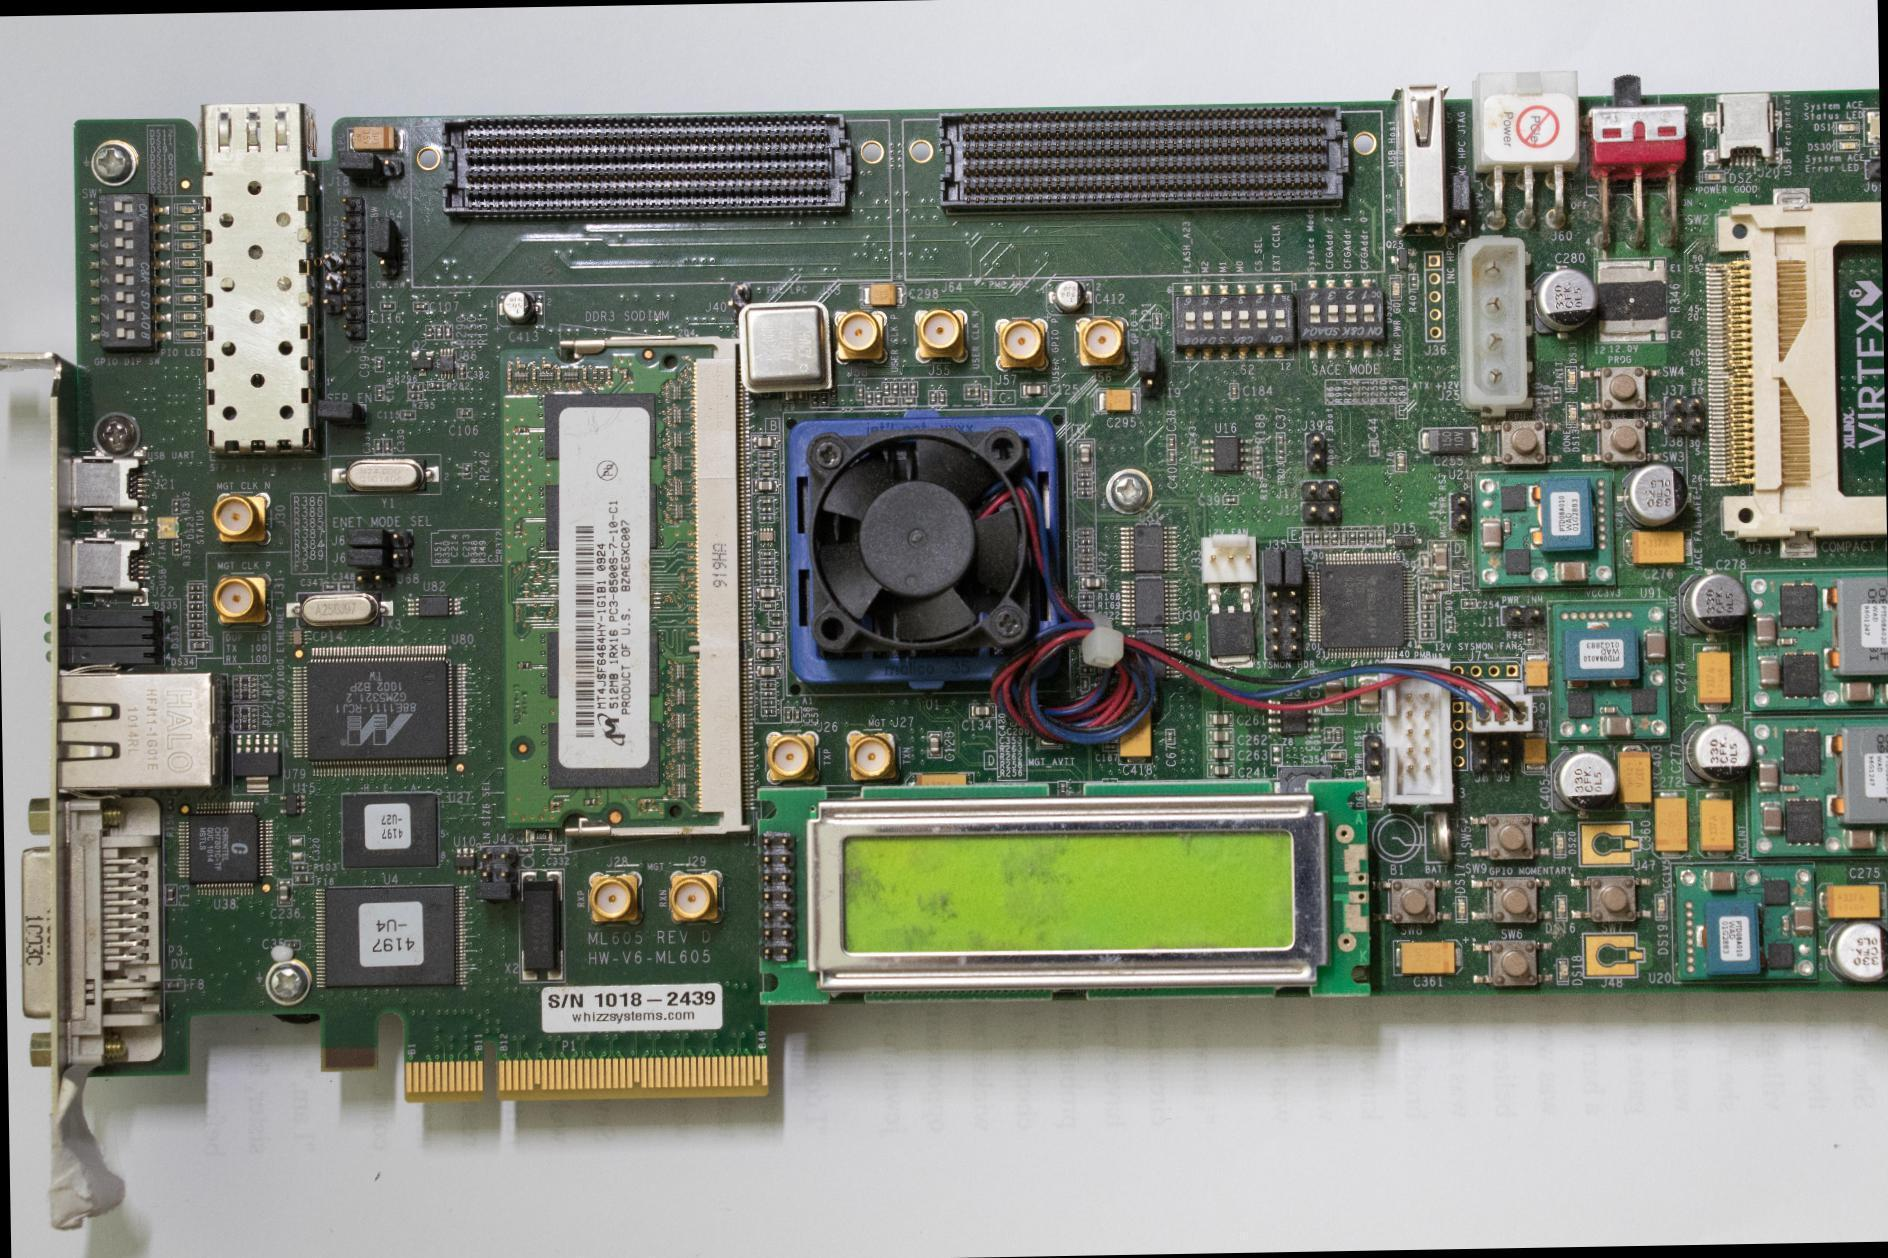Button: (1468, 815, 1550, 860), (1568, 876, 1650, 922), (1480, 421, 1560, 466), (1472, 940, 1552, 986), (1580, 367, 1659, 410), (1470, 878, 1550, 920), (1581, 418, 1658, 462), (1379, 878, 1450, 923)
Capacitor: (1352, 669, 1381, 713), (1318, 671, 1346, 713), (1790, 900, 1813, 936), (1599, 715, 1634, 738), (1758, 760, 1782, 794), (1759, 801, 1783, 837), (1753, 614, 1776, 648), (1842, 827, 1877, 850), (1553, 561, 1589, 582), (1839, 681, 1876, 702), (1642, 630, 1665, 664), (1757, 655, 1780, 689), (1479, 518, 1500, 552), (1703, 869, 1736, 890), (1067, 393, 1083, 421), (753, 663, 781, 680), (752, 645, 779, 661), (750, 435, 777, 450), (751, 478, 779, 493), (753, 585, 781, 601), (752, 629, 780, 645), (1020, 382, 1047, 397), (1206, 711, 1232, 726), (276, 879, 291, 907), (967, 705, 994, 719), (1206, 728, 1232, 743), (926, 728, 940, 755), (1206, 746, 1232, 760), (1078, 576, 1104, 590), (1207, 762, 1233, 776), (1393, 449, 1406, 471), (1324, 749, 1345, 761), (288, 630, 304, 646), (372, 355, 384, 373), (783, 391, 806, 400), (378, 301, 396, 311), (410, 301, 427, 311), (455, 407, 472, 418), (1100, 741, 1117, 752), (1777, 637, 1795, 647), (1780, 916, 1789, 936), (374, 386, 384, 401), (1879, 681, 1887, 705), (383, 437, 393, 454), (1369, 440, 1378, 457), (1458, 599, 1475, 609), (1613, 699, 1632, 708), (1780, 783, 1800, 792), (549, 845, 565, 855), (283, 940, 300, 950), (1879, 828, 1887, 851), (1229, 382, 1238, 400), (1275, 431, 1285, 447), (1167, 435, 1176, 450), (1383, 529, 1392, 545), (1444, 617, 1454, 632), (783, 706, 793, 722), (1339, 531, 1347, 547), (1167, 450, 1176, 465), (339, 583, 354, 593), (1323, 728, 1332, 743), (1151, 313, 1160, 329), (456, 363, 465, 379), (399, 410, 414, 419), (373, 438, 382, 454), (1193, 444, 1202, 459), (322, 582, 337, 591), (793, 706, 801, 722), (1165, 729, 1174, 744), (1333, 728, 1342, 743), (519, 846, 532, 854)
Connector: (1707, 186, 1886, 561), (406, 107, 889, 225), (902, 101, 1379, 217), (3, 791, 181, 1076), (198, 102, 320, 458), (48, 670, 228, 791), (938, 537, 1052, 700), (1459, 234, 1534, 418), (1379, 665, 1450, 811), (1395, 82, 1447, 238), (70, 528, 149, 607), (70, 446, 147, 526), (1701, 92, 1780, 164), (757, 831, 794, 964), (339, 195, 369, 341), (1201, 534, 1255, 605), (1466, 680, 1532, 732), (210, 492, 271, 547), (212, 572, 272, 627), (833, 310, 888, 366), (912, 308, 968, 364), (1073, 315, 1128, 371), (993, 316, 1048, 371), (764, 730, 818, 786), (587, 870, 641, 927), (668, 869, 722, 927), (846, 729, 899, 783), (1263, 589, 1300, 659), (1423, 250, 1445, 341), (1298, 480, 1341, 521), (1468, 732, 1512, 771), (1662, 395, 1703, 433), (479, 846, 518, 880), (1449, 695, 1465, 771), (1450, 664, 1521, 680), (389, 530, 413, 570), (1450, 498, 1475, 537), (1501, 605, 1543, 627), (1360, 735, 1381, 777), (350, 571, 393, 591), (1303, 432, 1325, 471), (729, 283, 750, 319), (320, 291, 342, 315), (319, 249, 343, 270), (321, 270, 343, 292), (379, 156, 401, 177), (1139, 376, 1158, 397), (377, 257, 399, 276), (1864, 158, 1879, 180)
Diode: (1386, 535, 1422, 548)
Electrolytic Capacitor: (1683, 713, 1752, 788), (1530, 265, 1599, 339), (1679, 570, 1748, 636), (1622, 465, 1691, 529), (1818, 919, 1887, 983), (1551, 749, 1616, 814), (1691, 642, 1732, 712), (1651, 791, 1688, 859), (1817, 882, 1885, 920), (1696, 790, 1734, 857), (1393, 940, 1462, 976), (1623, 529, 1691, 565), (1615, 742, 1651, 810), (1115, 699, 1151, 764), (1048, 276, 1106, 315), (496, 291, 543, 326), (1425, 426, 1483, 452), (347, 125, 403, 152), (1094, 388, 1139, 414), (1522, 650, 1548, 694), (407, 314, 454, 339), (1521, 730, 1546, 775)
IC: (784, 419, 1070, 706), (293, 646, 468, 776), (312, 887, 469, 989), (1306, 552, 1414, 657), (340, 791, 439, 869), (1822, 574, 1887, 678), (1829, 723, 1887, 828), (1699, 742, 1761, 821), (230, 731, 282, 794), (1119, 524, 1177, 573), (1120, 576, 1177, 625), (1124, 633, 1180, 681), (1783, 798, 1823, 845), (1266, 699, 1319, 734), (1778, 583, 1817, 632), (1201, 436, 1252, 472), (1780, 728, 1818, 773), (1782, 654, 1818, 700), (406, 595, 464, 618), (1761, 878, 1788, 906), (1566, 692, 1594, 718), (1767, 942, 1793, 970), (1501, 479, 1526, 506), (1504, 548, 1529, 574), (1630, 689, 1656, 715), (278, 794, 306, 816), (454, 848, 475, 875), (439, 348, 454, 379)
Led: (40, 606, 165, 668), (1862, 108, 1879, 147), (154, 516, 178, 540), (172, 237, 201, 254), (174, 274, 201, 288), (176, 309, 202, 323), (1553, 831, 1566, 858), (1453, 895, 1467, 921), (1552, 895, 1566, 921), (172, 202, 200, 216), (173, 221, 200, 234), (1555, 958, 1568, 985), (173, 257, 201, 270), (174, 292, 201, 305), (174, 328, 201, 341), (1564, 365, 1577, 392), (1833, 139, 1858, 151), (1653, 895, 1665, 921), (1389, 275, 1401, 300), (1833, 122, 1859, 133), (1699, 171, 1723, 183), (1567, 402, 1577, 427)
Pads: (403, 1055, 769, 1102), (1578, 821, 1640, 869), (1582, 931, 1645, 977), (287, 835, 304, 862), (1269, 744, 1281, 765)
Resistor: (231, 674, 258, 700), (233, 705, 259, 732), (525, 828, 555, 843), (670, 383, 682, 400), (562, 369, 577, 382), (671, 455, 683, 470), (672, 504, 685, 520), (1407, 273, 1418, 289), (671, 479, 682, 496), (1330, 531, 1340, 548), (674, 713, 685, 730), (671, 432, 683, 447), (671, 408, 682, 424), (461, 462, 471, 477), (674, 763, 685, 778), (443, 323, 453, 340), (426, 381, 442, 390), (187, 621, 203, 630), (674, 663, 684, 679), (291, 864, 307, 873), (512, 371, 527, 382), (537, 370, 552, 382), (676, 783, 688, 798), (407, 390, 423, 400), (1550, 387, 1560, 403), (1254, 481, 1263, 497), (674, 690, 684, 705), (165, 797, 175, 813), (1253, 447, 1262, 463), (1356, 526, 1364, 544), (1321, 531, 1329, 548), (186, 584, 203, 593), (186, 594, 203, 603), (187, 602, 203, 611), (186, 612, 203, 621), (187, 630, 204, 639), (1524, 628, 1533, 644), (675, 738, 685, 753), (424, 324, 433, 340), (171, 499, 179, 514), (171, 539, 180, 555), (434, 324, 441, 341), (408, 382, 422, 391), (1364, 530, 1371, 546), (1870, 148, 1879, 159), (1312, 532, 1320, 548), (1349, 532, 1356, 547), (1078, 592, 1093, 600), (1078, 603, 1092, 609)
Switch: (1702, 69, 1808, 246), (1172, 281, 1294, 362), (1295, 278, 1386, 359)
Transistor: (1206, 608, 1254, 669), (1388, 249, 1416, 270)
